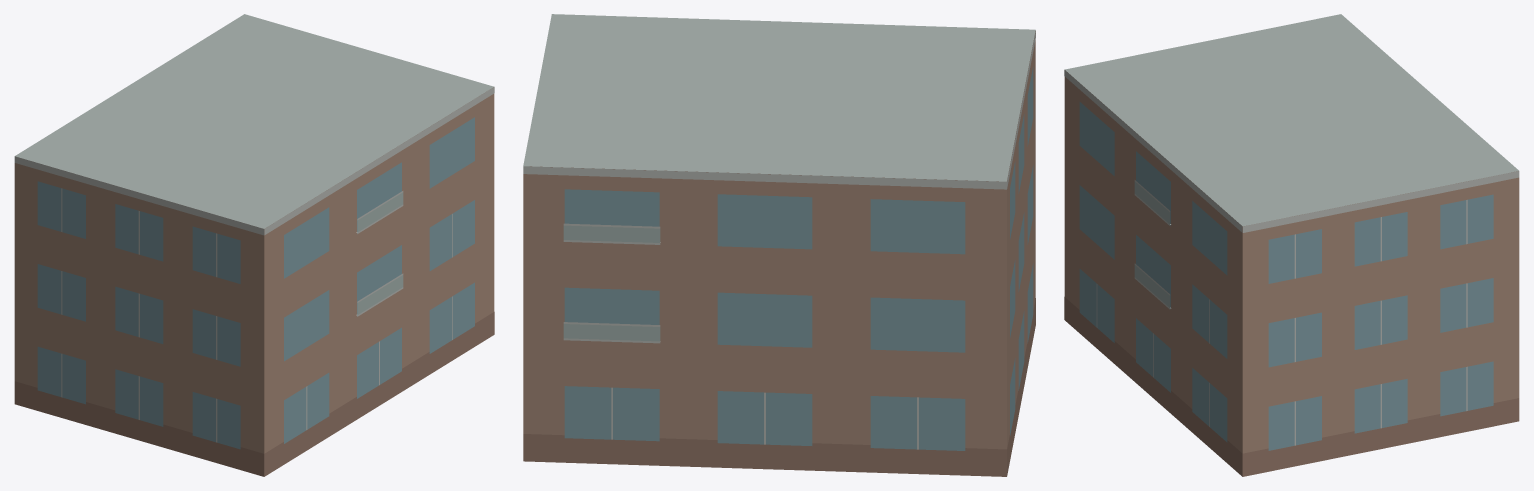
The model's file is survey-upis-32698030.glb.
3 views of the same model, side by side, from view 1: azimuth 30°, elevation 25°; view 2: azimuth 150°, elevation 25°; view 3: azimuth 270°, elevation 25° (orthographic). The views are drawn at different scales.
Parts seen in each view (by area): view 1: survey-upis-32698030.tmp; view 2: survey-upis-32698030.tmp; view 3: survey-upis-32698030.tmp.
Part boxes in pixels (x1,y1,x2,y2): survey-upis-32698030.tmp: [14, 14, 494, 476]; survey-upis-32698030.tmp: [523, 14, 1035, 476]; survey-upis-32698030.tmp: [1064, 14, 1519, 476].
Bounding box in the file's own units: 16.66 × 9.15 × 15.07.
